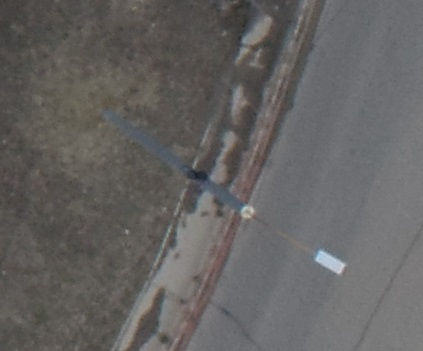opora: (102, 107, 348, 276)
